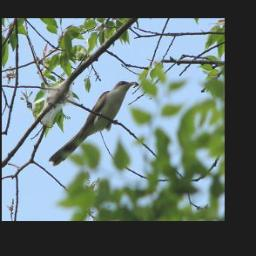Cuckoo: (48, 78, 137, 163)
